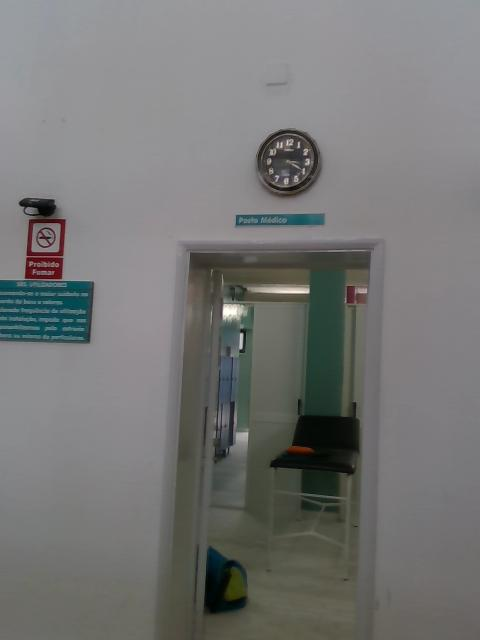open_door: (149, 235, 387, 639)
